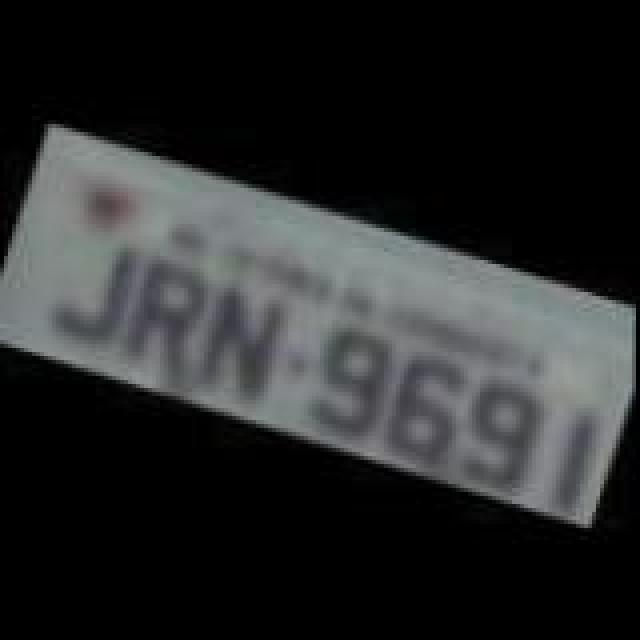1: (538, 392, 610, 516)
6: (374, 342, 478, 470)
9: (442, 368, 546, 496), (306, 318, 402, 442)
J: (42, 224, 142, 352)
N: (184, 278, 296, 410)
R: (118, 252, 218, 380)
